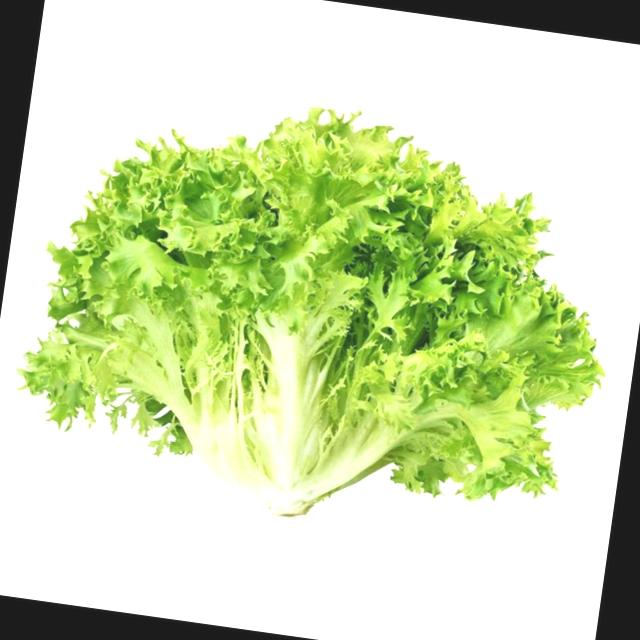lista_para_cosechar: (21, 109, 604, 516)
